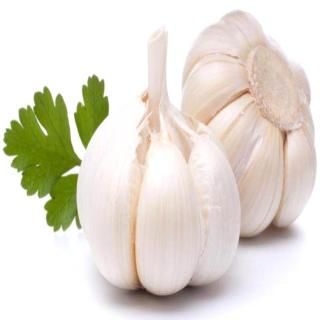Bawang Putih: (77, 6, 320, 302)
